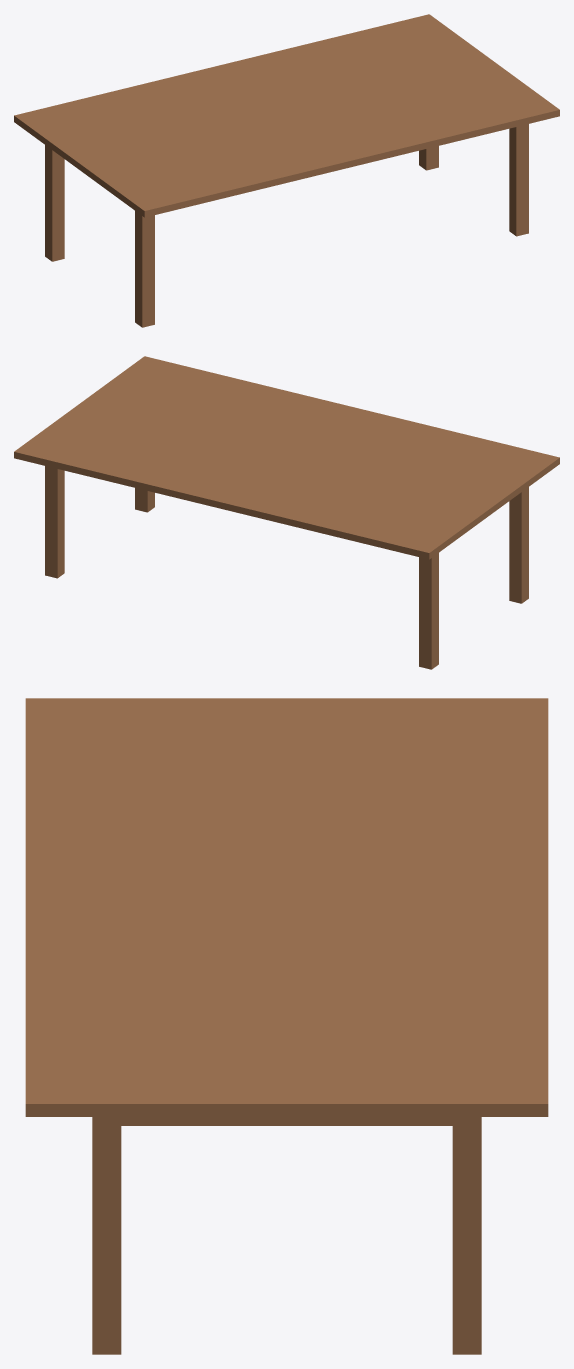
The model's file is table2.fbx.
3 renders of one model, top to bottom at view 1: azimuth 30°, elevation 25°; view 2: azimuth 150°, elevation 25°; view 3: azimuth 270°, elevation 25°, orthographic. The views are drawn at different scales.
Visible parts, largest first — view 1: Plane; view 2: Plane; view 3: Plane.
Boxes of the visible parts, bbox=[...] form: Plane: bbox=[14, 14, 559, 327]; Plane: bbox=[14, 356, 559, 669]; Plane: bbox=[25, 698, 548, 1354].
Size of the model in its own units: 6645 by 2023 by 3619.
